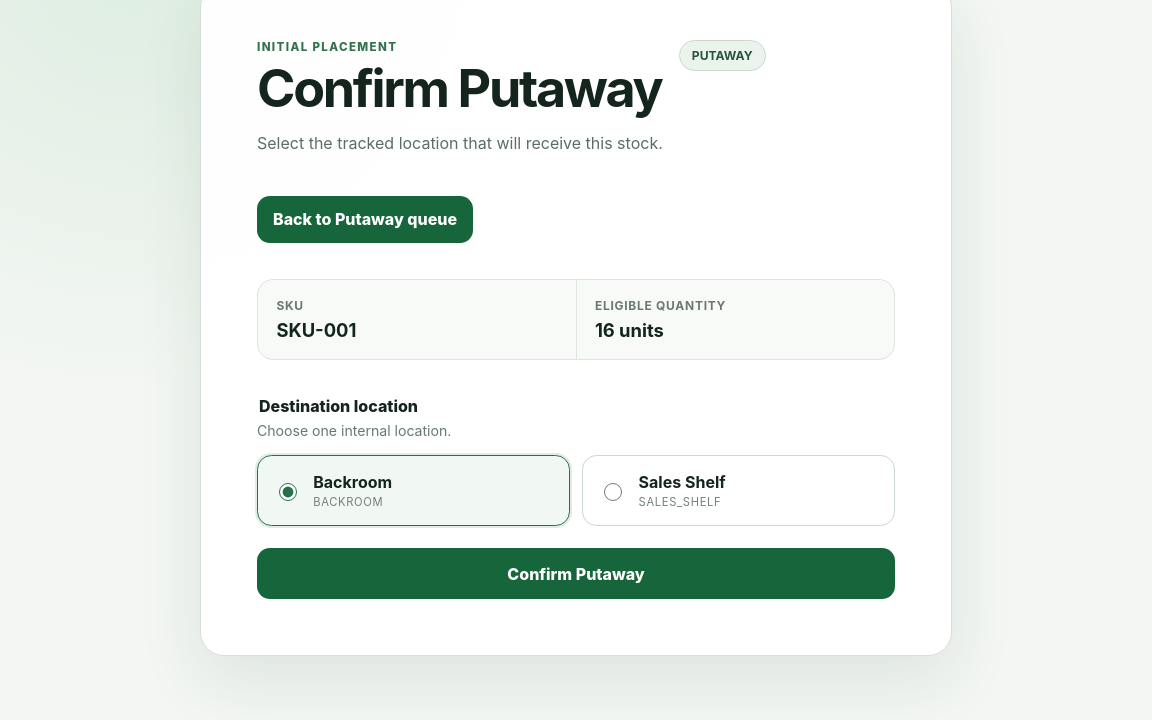
it: US-PUT-001 Putaway › submits the allocation and shows the committed result
(page scrolled)
Click the button "Confirm Putaway".
click(576, 574)  # box [257,548,895,599]
(page scrolled)
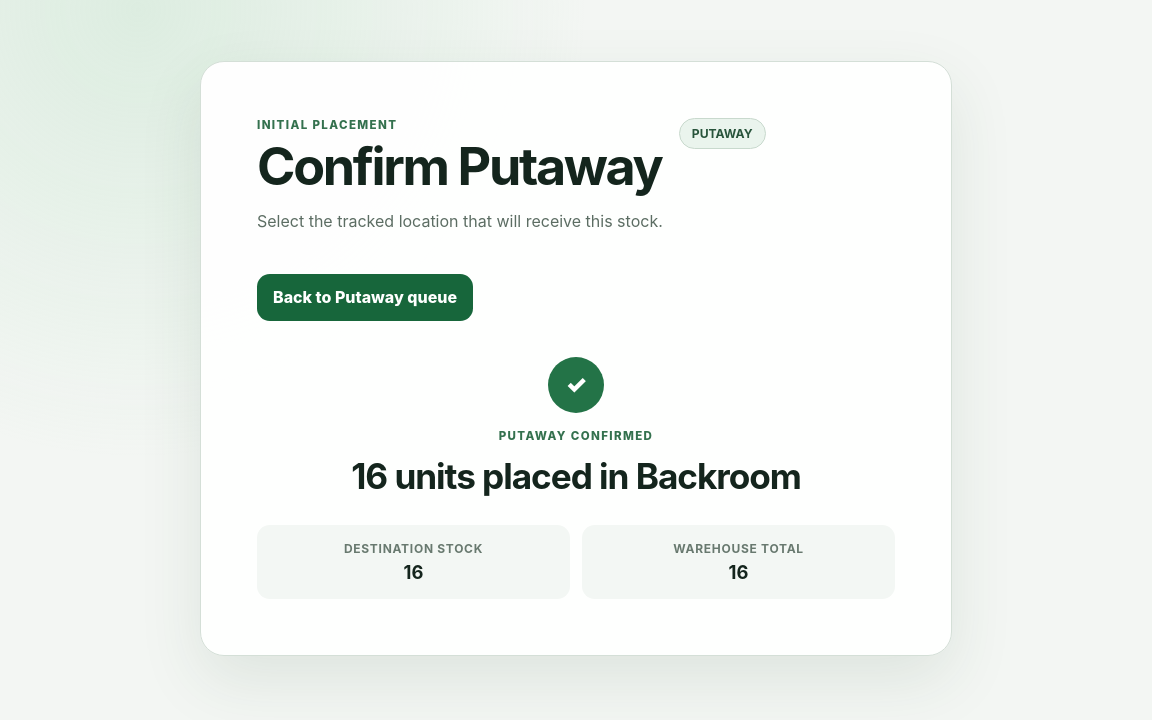
Check: the heading "16 units placed in Backroom" is shown, box [336,455,816,497]
